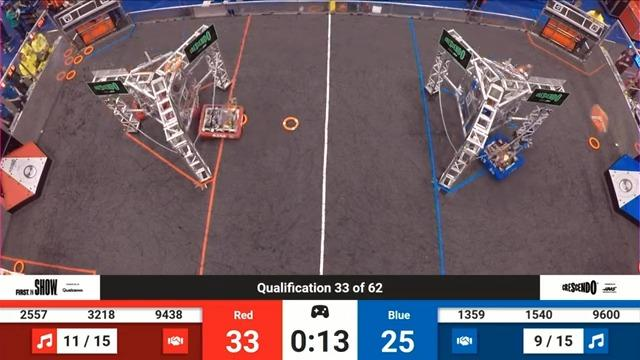robot: (194, 102, 258, 144), (484, 133, 531, 188), (132, 76, 168, 123), (467, 63, 506, 106)
